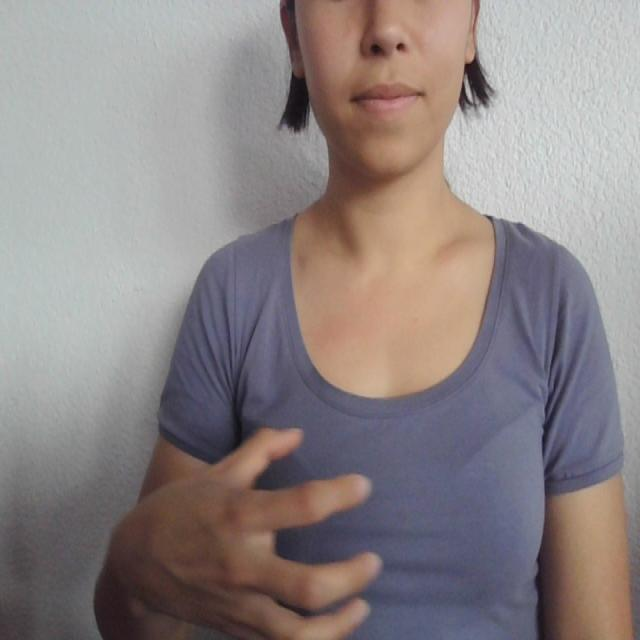Anne: (161, 408, 535, 640)
